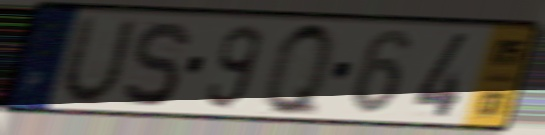4: (410, 28, 471, 122)
6: (348, 26, 415, 118)
9: (203, 22, 263, 111)
Q: (263, 17, 336, 122)
S: (119, 17, 192, 109)
U: (54, 12, 141, 108)
